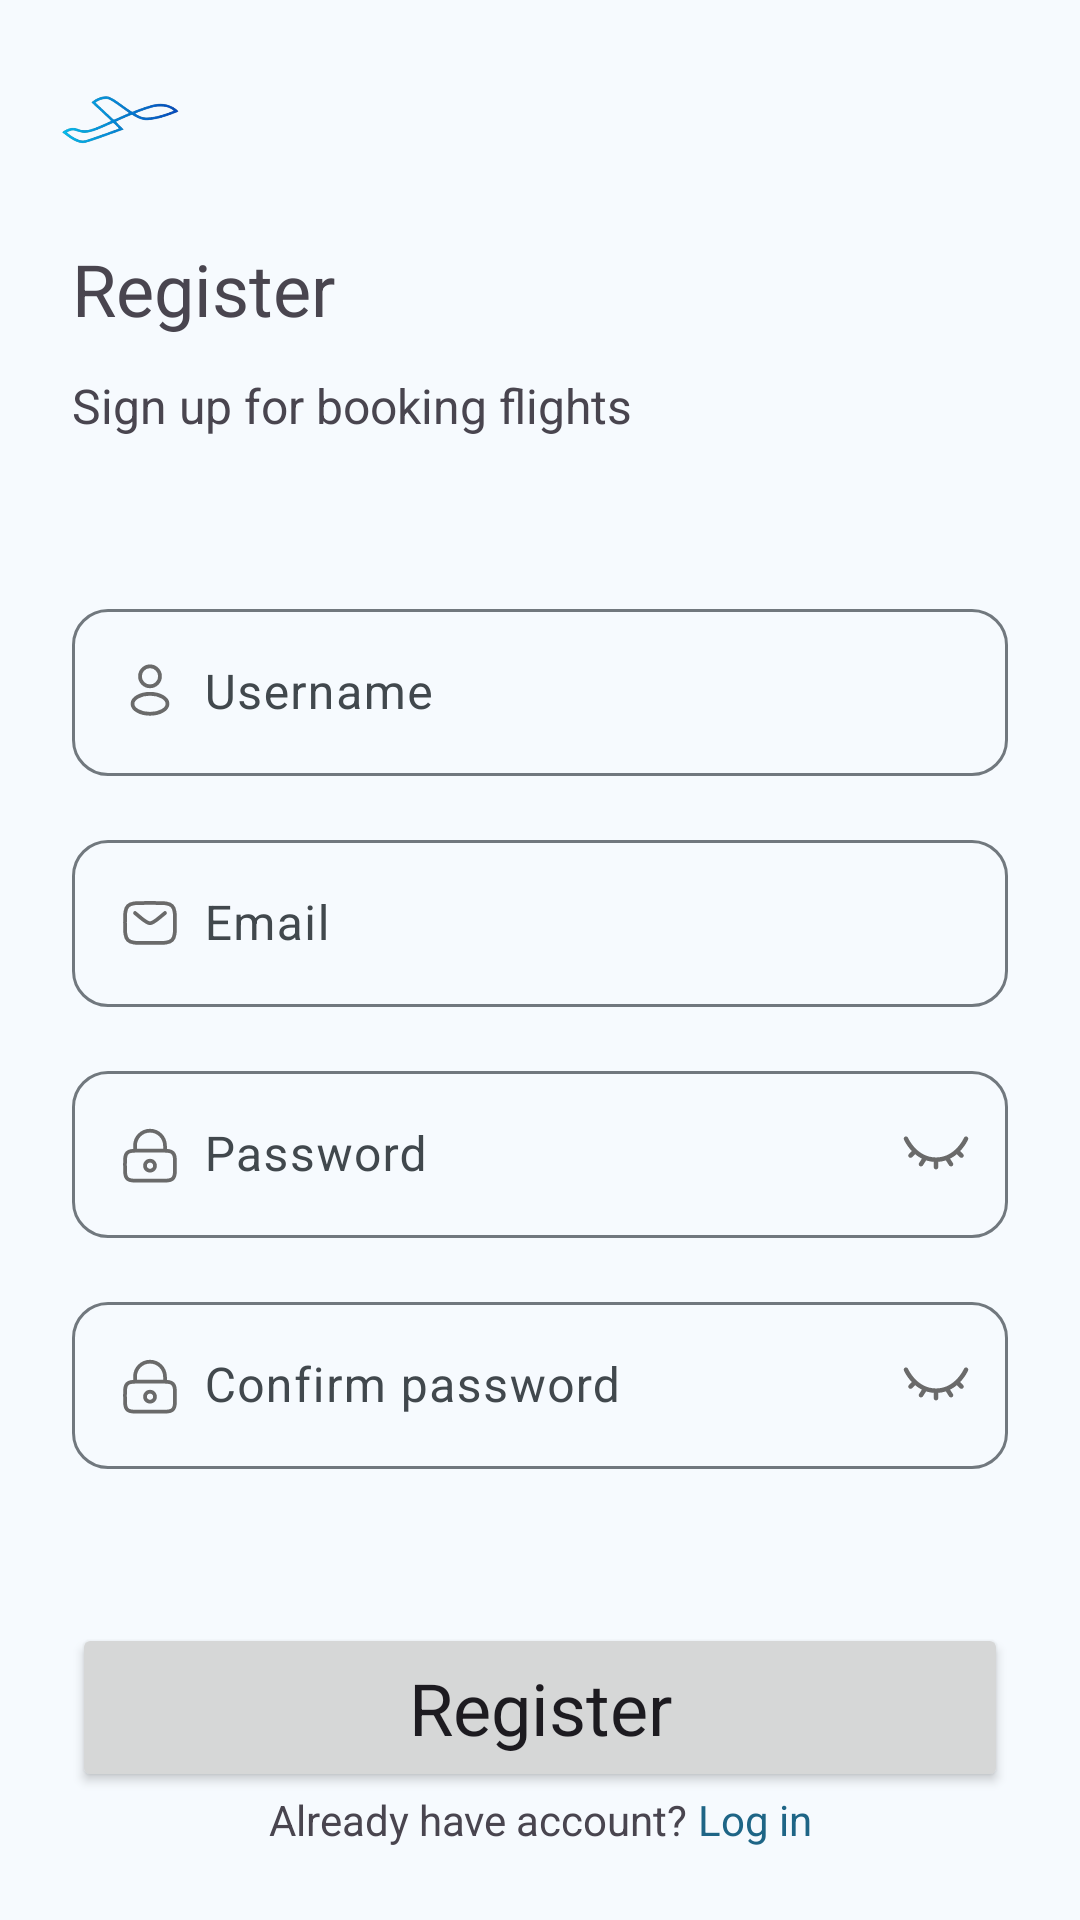

Icons on this 1080x1920 Android screen, each with its box as [x1, y1, x2, y2]:
eye closed: [903, 1136, 969, 1170], [903, 1367, 969, 1401]
